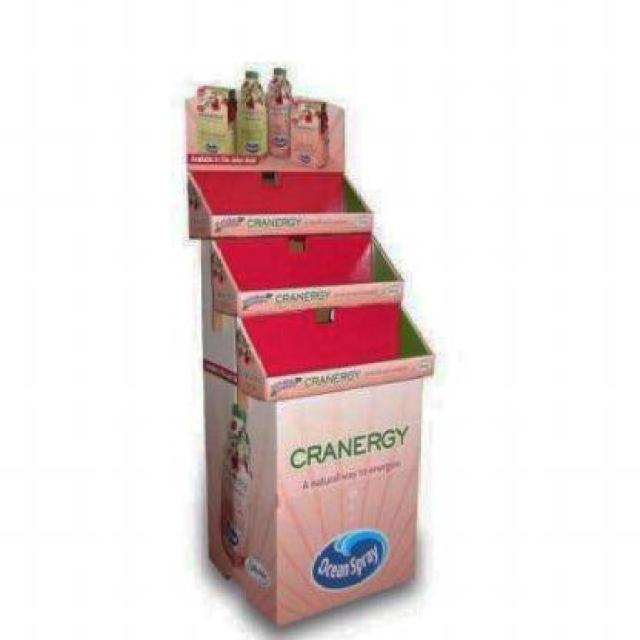box: (172, 47, 437, 640)
